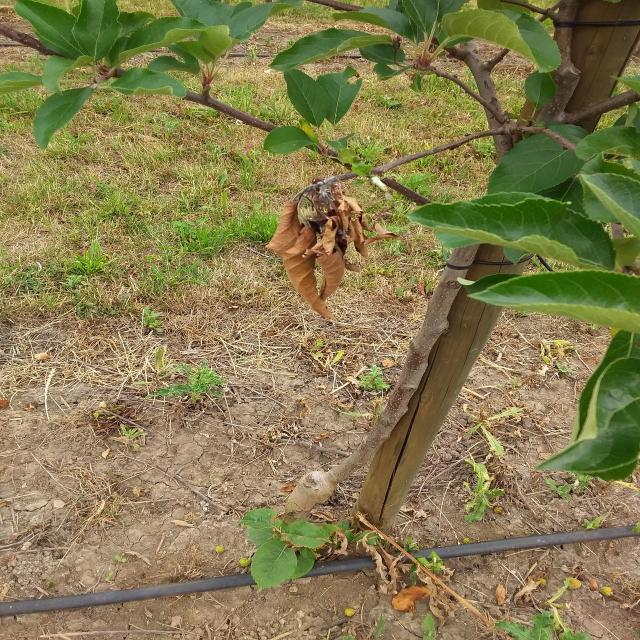-FireBlight-: (275, 184, 388, 321)
